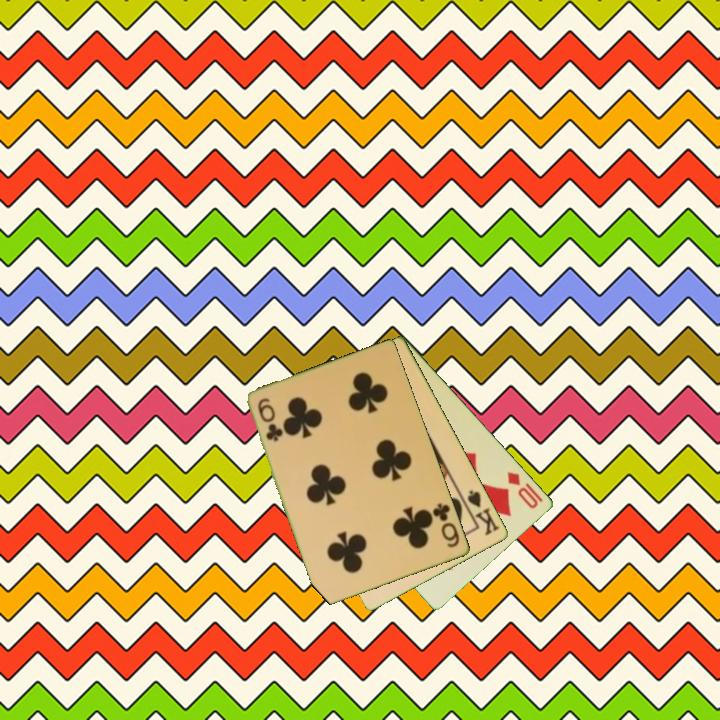10d: (504, 468, 546, 512)
6c: (429, 500, 463, 551), (254, 394, 285, 445)
Ks: (459, 487, 503, 538)
